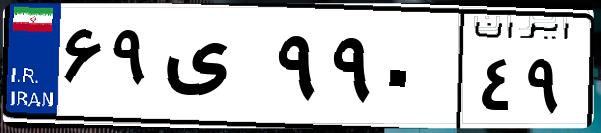0: (385, 28, 445, 110)
4: (475, 38, 525, 113)
6: (57, 26, 110, 100)
9: (270, 28, 330, 110), (330, 28, 385, 110), (525, 38, 570, 115), (110, 28, 158, 98)
ی: (158, 20, 270, 120)
